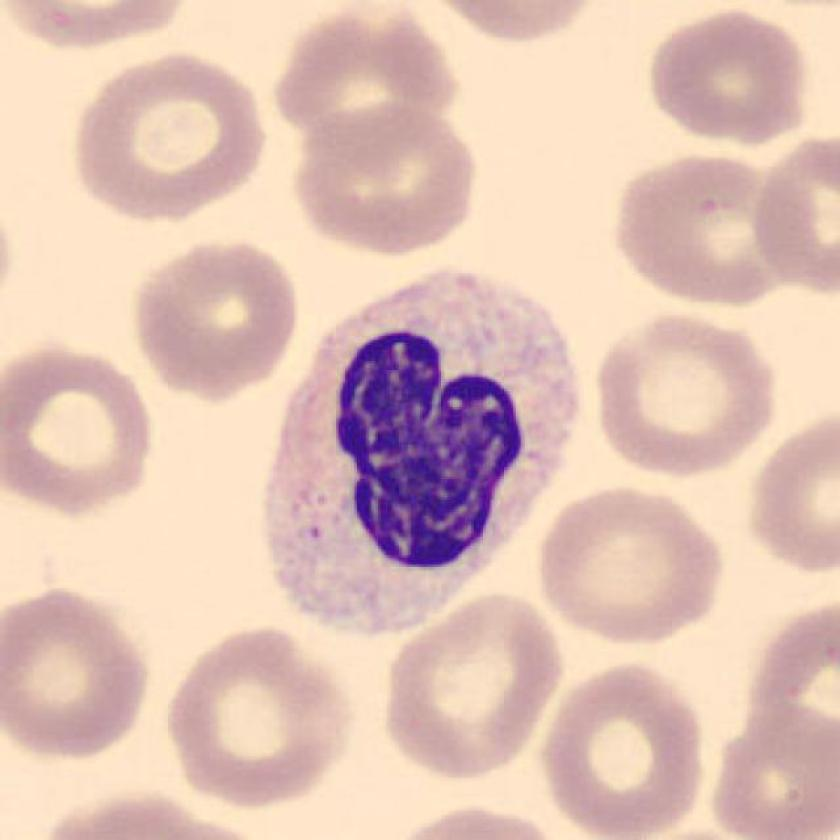neutrophil: (256, 270, 583, 640)
